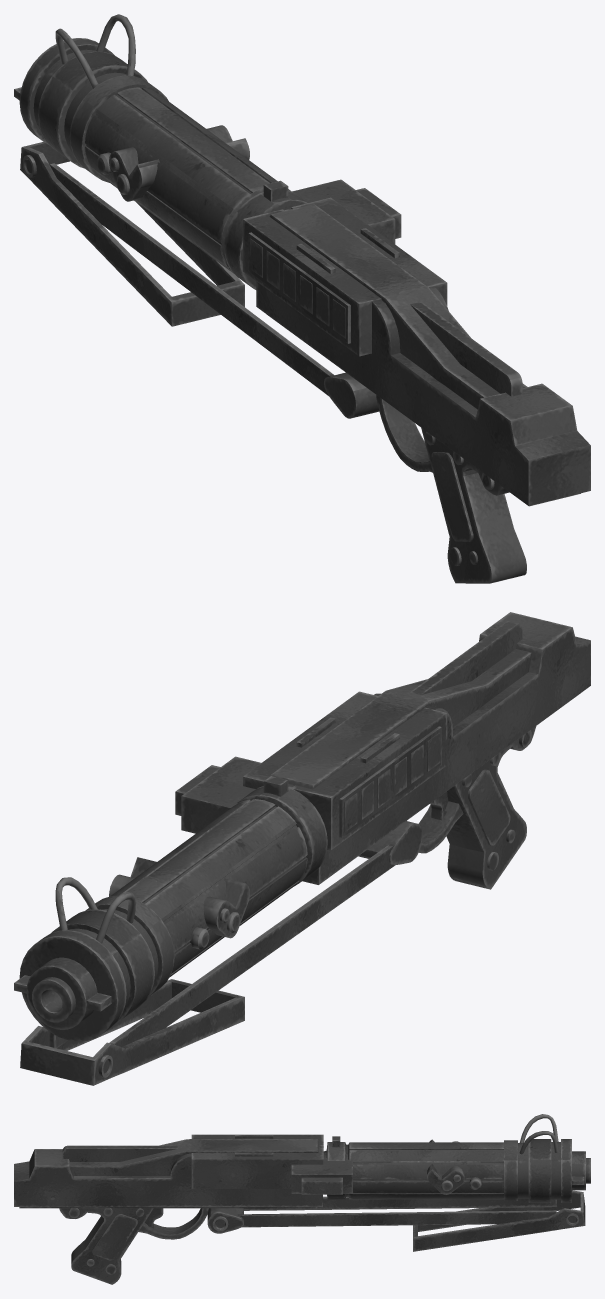
Rendered from clone_wars_dc-15s.glb.
3 renders of one model, top to bottom at view 1: azimuth 30°, elevation 25°; view 2: azimuth 150°, elevation 25°; view 3: azimuth 270°, elevation 25°, orthographic. The views are drawn at different scales.
Parts seen in each view (by area): view 1: Cube_0; view 2: Cube_0; view 3: Cube_0.
Part boxes in pixels (x1=…): Cube_0: x1=14, y1=14, x2=590, y2=583; Cube_0: x1=14, y1=612, x2=590, y2=1085; Cube_0: x1=14, y1=1114, x2=590, y2=1284.
Bounding box in the file's own units: 0.1048 × 0.182 × 0.6046.
1 material, 1 textured.
